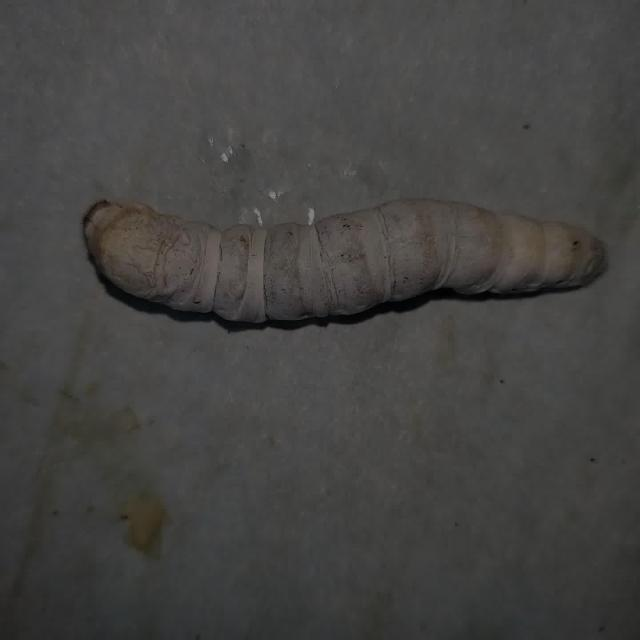Grasserie: (72, 158, 617, 340)
